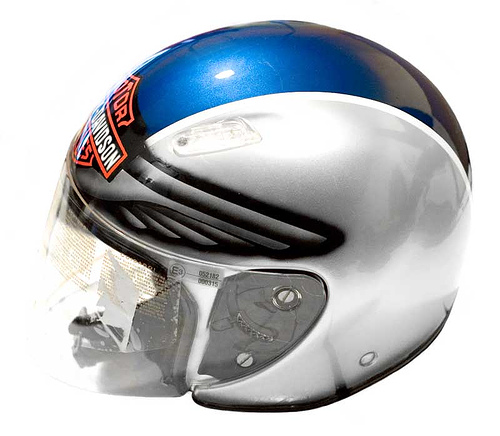helmet: (48, 27, 460, 384)
